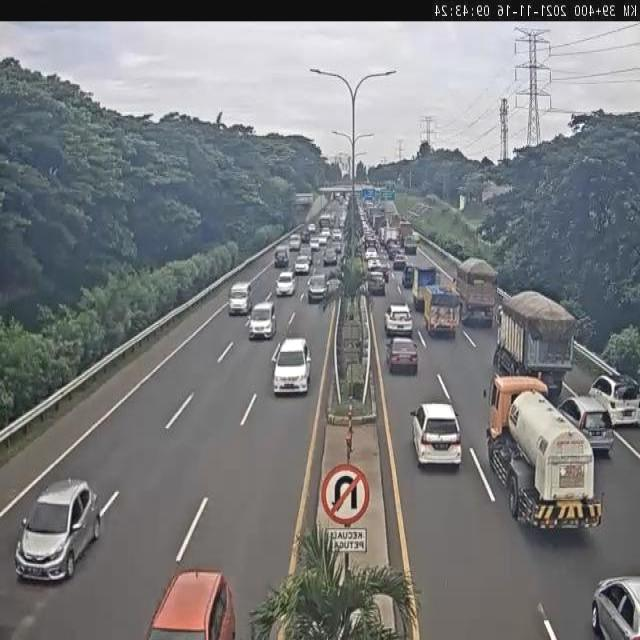Car: (14, 477, 103, 581), (142, 568, 237, 639), (554, 394, 614, 457), (411, 403, 463, 469), (591, 576, 640, 638), (589, 373, 640, 428), (272, 336, 312, 396), (386, 337, 419, 375), (248, 300, 277, 340), (384, 303, 414, 338), (307, 273, 328, 303), (275, 271, 297, 296), (367, 272, 386, 296), (324, 274, 342, 298), (274, 246, 290, 268), (294, 256, 311, 276), (402, 266, 415, 288), (323, 248, 338, 266), (288, 234, 302, 251), (393, 253, 406, 270), (366, 257, 379, 272), (310, 237, 320, 252)
Truck: (483, 376, 603, 530), (496, 289, 574, 388), (454, 257, 498, 328), (424, 285, 459, 334)
Van: (228, 282, 254, 316)
